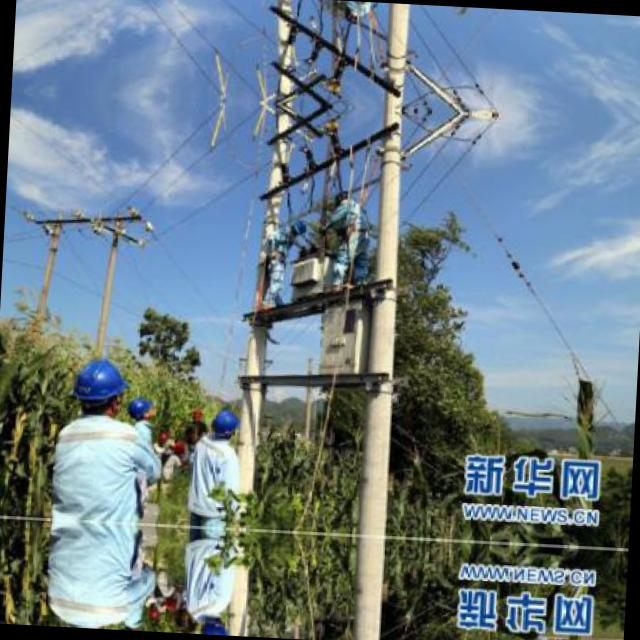helmet: (69, 356, 126, 418), (212, 409, 242, 444), (124, 397, 158, 422), (200, 612, 232, 632), (284, 215, 310, 238)
